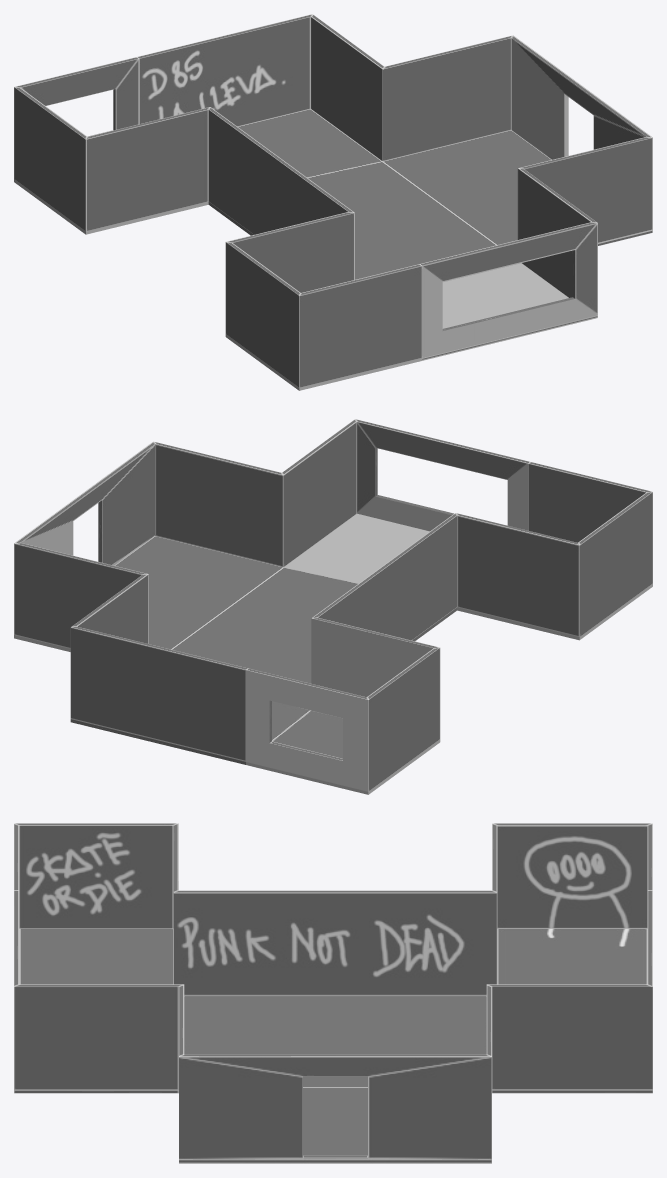
The model's file is show01.glb.
3 renders of one model, top to bottom at view 1: azimuth 30°, elevation 25°; view 2: azimuth 150°, elevation 25°; view 3: azimuth 270°, elevation 25°, orthographic. The views are drawn at different scales.
Parts seen in each view (by area): view 1: Cube; view 2: Cube; view 3: Cube.
Part boxes in pixels (x1,y1,x2,y2): Cube: (14, 14, 652, 390); Cube: (14, 419, 652, 794); Cube: (14, 823, 652, 1163).
Size of the model in its own units: 4641 by 988 by 5367.
Materials: 1 (1 with a texture image).
